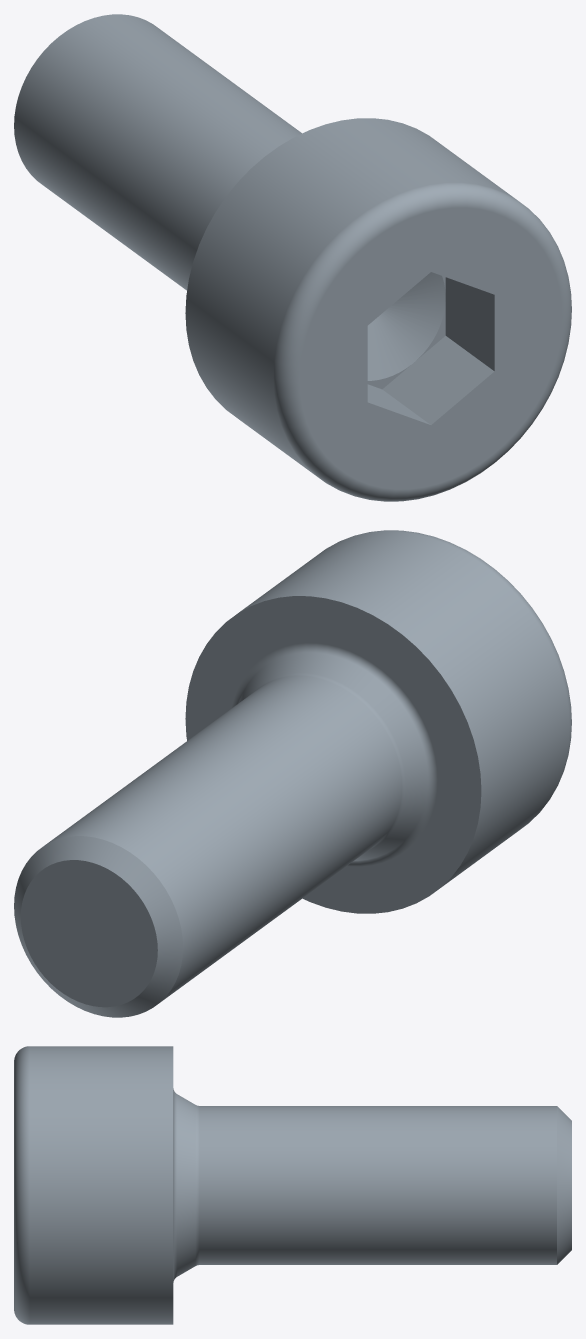
Rendered from Hex_socket_head_cap_screw_M4x0_70_x_10.obj.
3 renders of one model, top to bottom at view 1: azimuth 30°, elevation 25°; view 2: azimuth 150°, elevation 25°; view 3: azimuth 270°, elevation 25°, orthographic. The views are drawn at different scales.
Parts seen in each view (by area): view 1: mesh279, mesh286, mesh284, mesh285, mesh294, mesh292, mesh287, mesh291; view 2: mesh279, mesh284, mesh283, mesh277, mesh278, mesh281, mesh282, mesh285, mesh280; view 3: mesh279, mesh284, mesh285, mesh281, mesh278, mesh282, mesh280.
Boxes of the visible parts, x1=… form: mesh279: x1=14, y1=14, x2=301, y2=290; mesh286: x1=300, y1=207, x2=562, y2=489; mesh284: x1=185, y1=118, x2=515, y2=473; mesh285: x1=273, y1=182, x2=571, y2=501; mesh294: x1=367, y1=272, x2=445, y2=380; mesh292: x1=382, y1=336, x2=494, y2=424; mesh287: x1=445, y1=277, x2=494, y2=370; mesh291: x1=367, y1=384, x2=430, y2=424; mesh279: x1=45, y1=675, x2=401, y2=1001; mesh284: x1=239, y1=531, x2=569, y2=889; mesh283: x1=185, y1=596, x2=481, y2=913; mesh277: x1=20, y1=860, x2=157, y2=1007; mesh278: x1=14, y1=836, x2=182, y2=1017; mesh281: x1=239, y1=652, x2=427, y2=860; mesh282: x1=231, y1=643, x2=437, y2=866; mesh285: x1=339, y1=530, x2=571, y2=816; mesh280: x1=252, y1=672, x2=405, y2=850; mesh279: x1=199, y1=1106, x2=556, y2=1264; mesh284: x1=30, y1=1046, x2=173, y2=1324; mesh285: x1=14, y1=1046, x2=29, y2=1324; mesh281: x1=177, y1=1094, x2=195, y2=1276; mesh278: x1=557, y1=1106, x2=571, y2=1264; mesh282: x1=173, y1=1088, x2=177, y2=1282; mesh280: x1=195, y1=1105, x2=199, y2=1265.
Size of the model in its own units: 0.007 by 0.00699 by 0.014.
